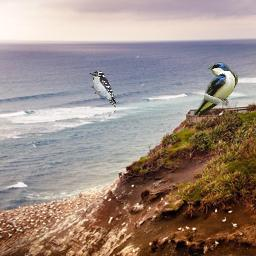Swallow: (193, 62, 238, 117)
Woodpecker: (89, 71, 116, 108)
